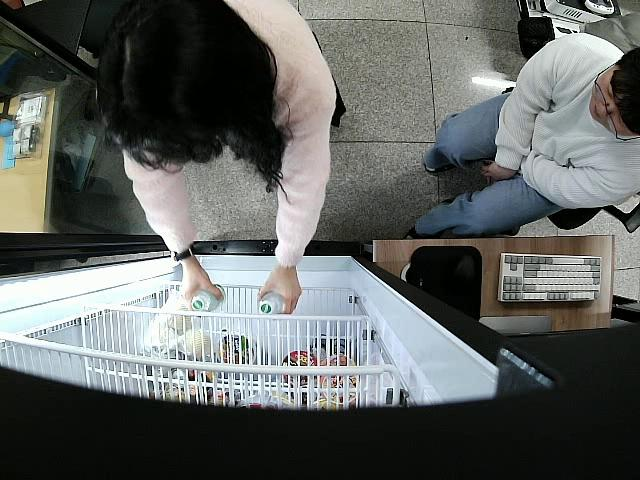00_hand: (179, 268, 223, 320), (259, 273, 301, 315)
18_trevi: (193, 283, 226, 311), (258, 292, 286, 320)
